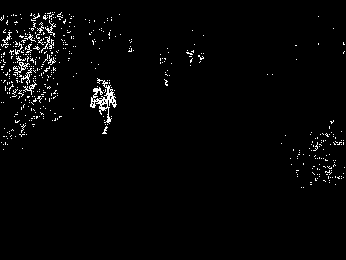person: (89, 74, 120, 137)
